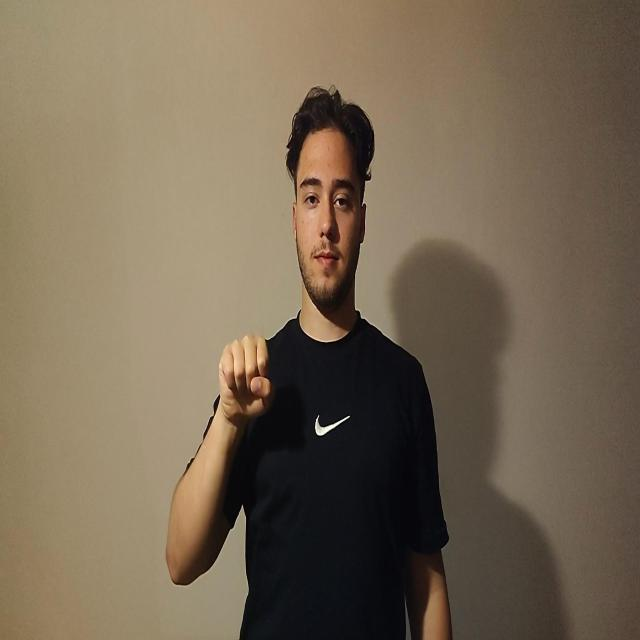yes: (218, 332, 274, 428)
